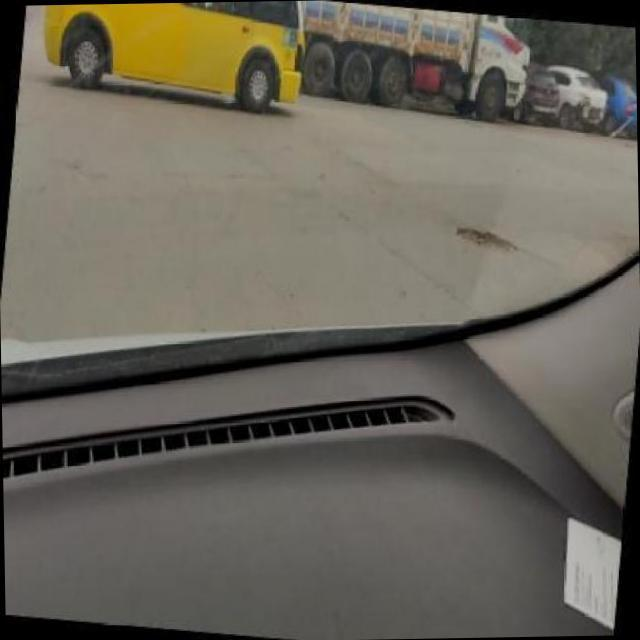Pothole: (455, 228, 522, 252)
